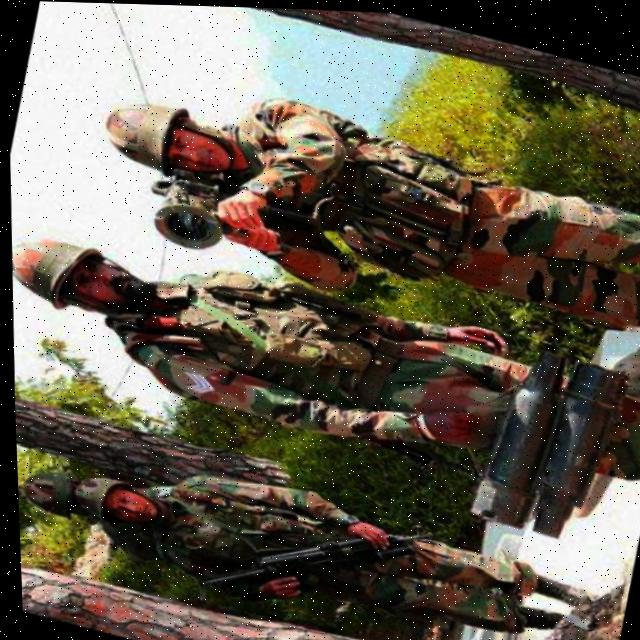rocket: (448, 330, 628, 547)
